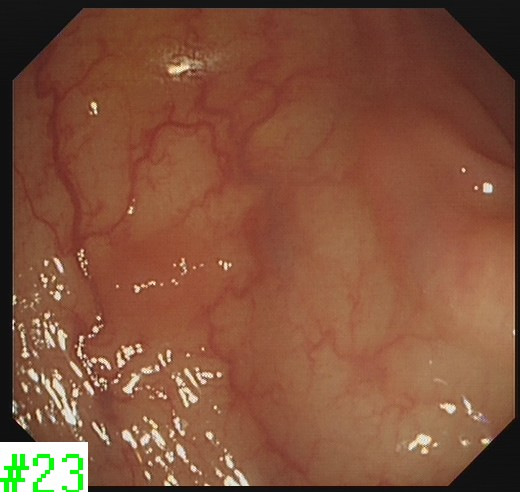adenoma: (94, 226, 220, 351)
